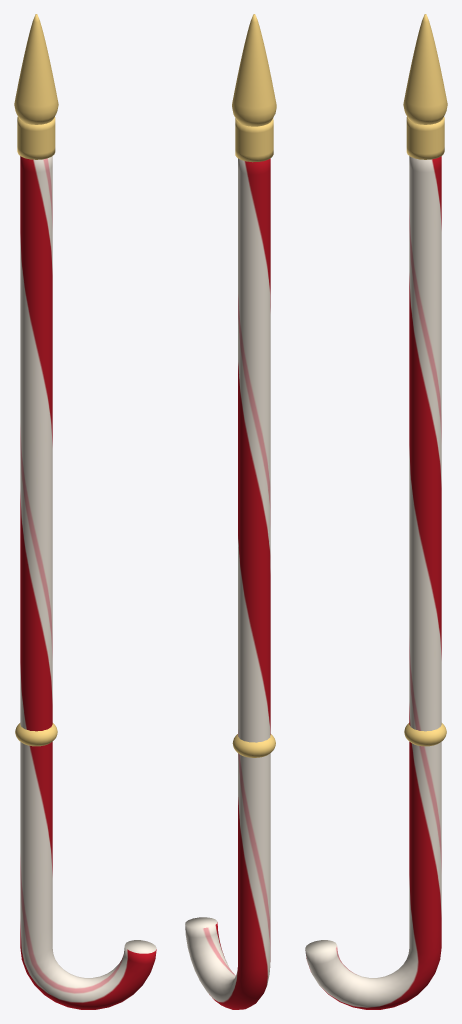
Rendered from snap_lance_v2.glb.
3 views of the same model, side by side, from view 1: azimuth 90°, elevation 25°; view 2: azimuth 210°, elevation 25°; view 3: azimuth 270°, elevation 25° (orthographic).
Visible parts, largest first — view 1: snap_lance; view 2: snap_lance; view 3: snap_lance.
Boxes of the visible parts, x1,y1,x2,y2 form: snap_lance: (14,14,156,1009); snap_lance: (185,14,276,1009); snap_lance: (305,14,447,1009).
Bounding box in the file's own units: 0.0939 × 2.31 × 0.3007.
2 materials, 1 textured.
